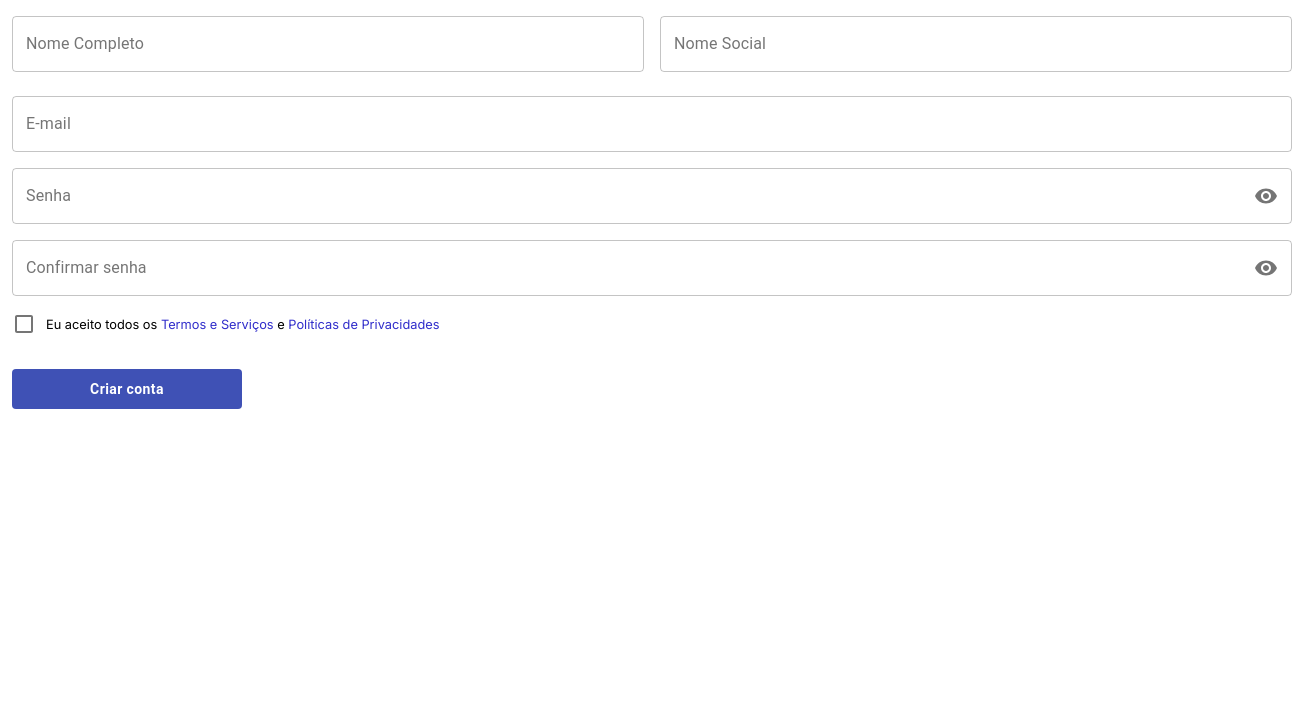
Test case: Register Form › shows validation errors on submit
The width and height of the screenshot is (1304, 720).
What coordinates should you click on to do the following:
click the checkbox
I would click on:
 (24, 324)
Its box is [12,312,36,336].
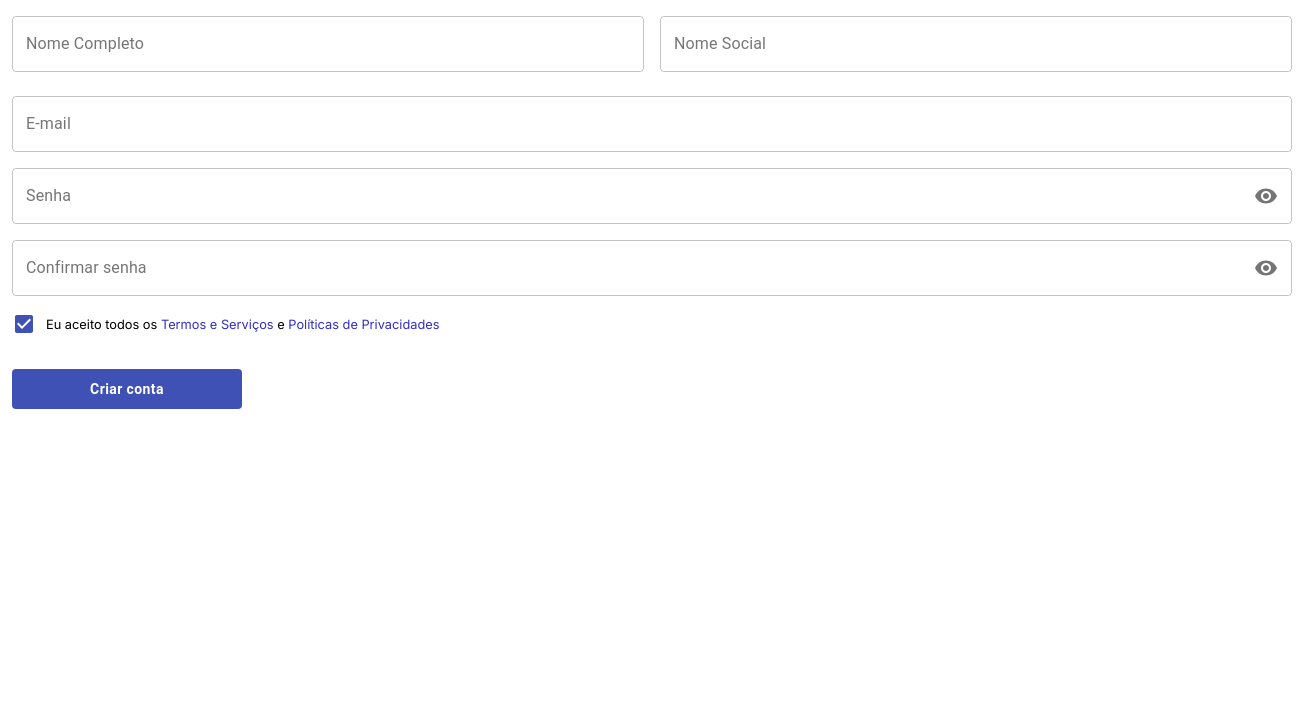
What coordinates should you click on to do the following:
click the button "Criar conta"
I would click on:
 (127, 389)
Its box is [12,369,242,409].
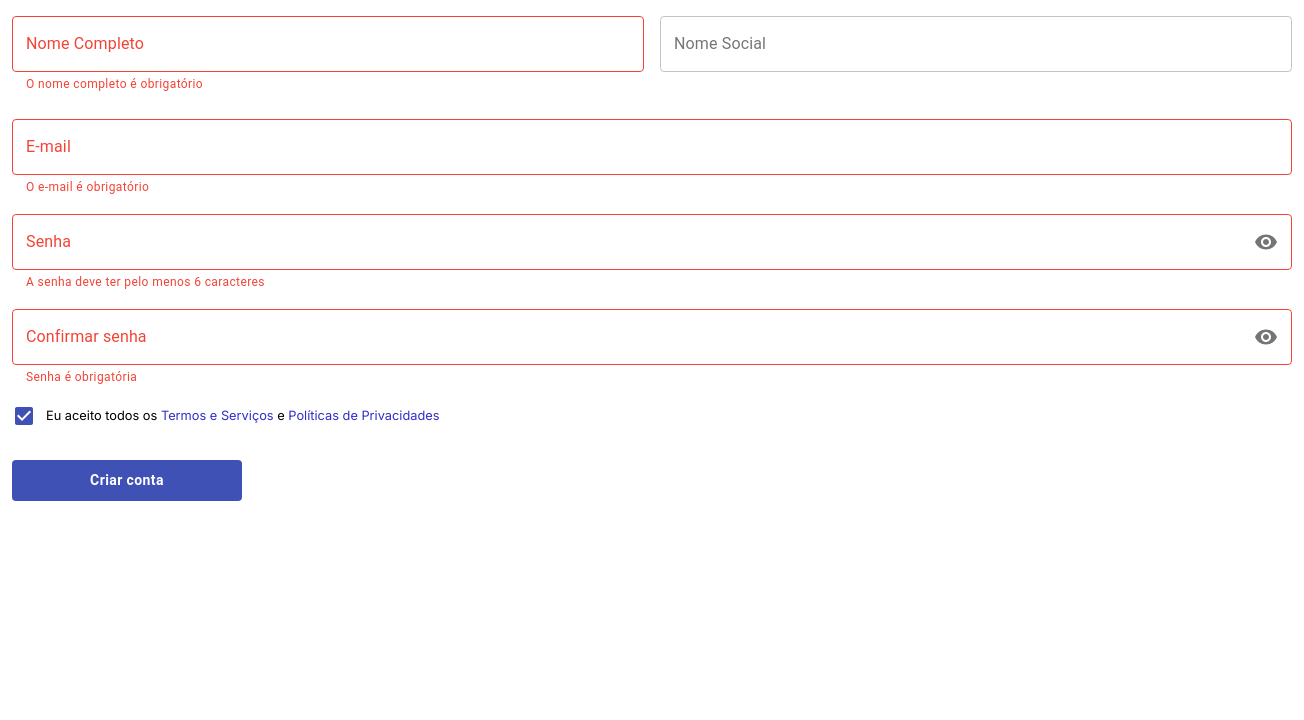
Check: the text "O e-mail é obrigatório" is shown, box [26,180,149,194]
Check: the text "Senha é obrigatória" is shown, box [26,370,137,384]
Check: the text "O nome completo é obrigatório" is shown, box [26,77,203,91]
